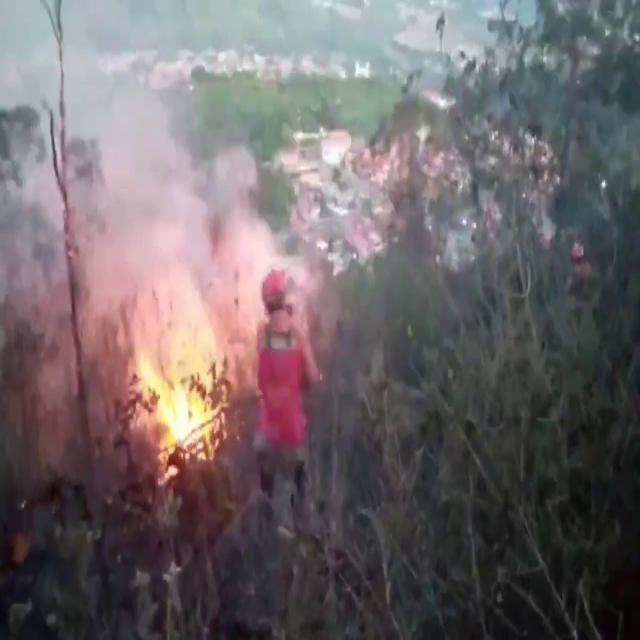Fire: (125, 326, 231, 472)
Smoke: (1, 0, 281, 361)
